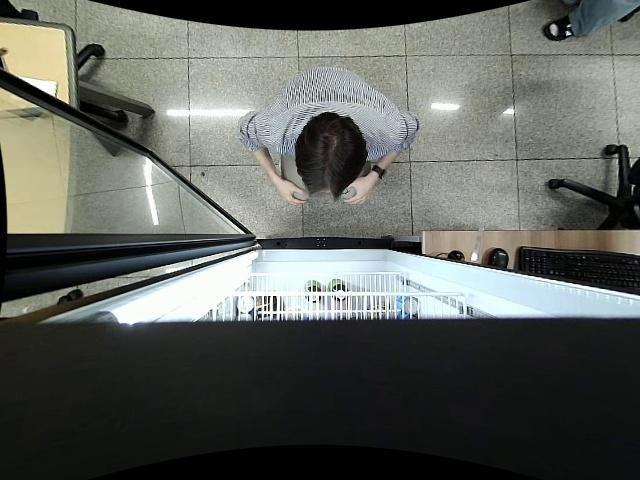00_hand: (343, 176, 374, 207), (278, 178, 310, 206)
